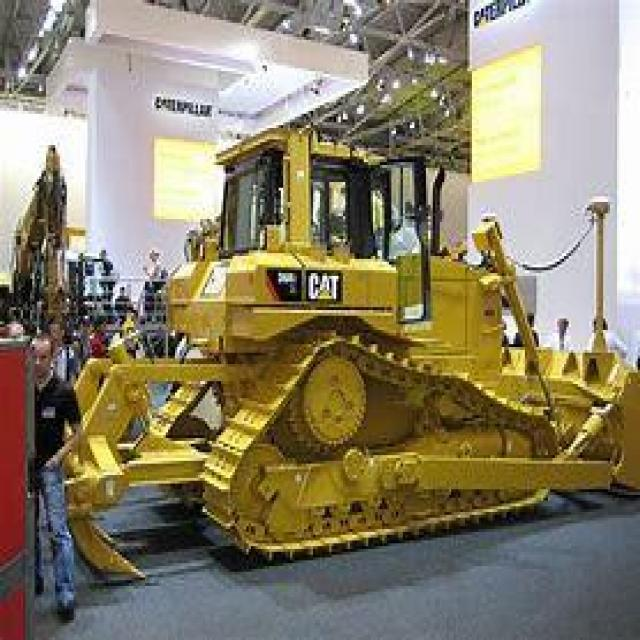Bulldozer: (53, 102, 638, 578)
